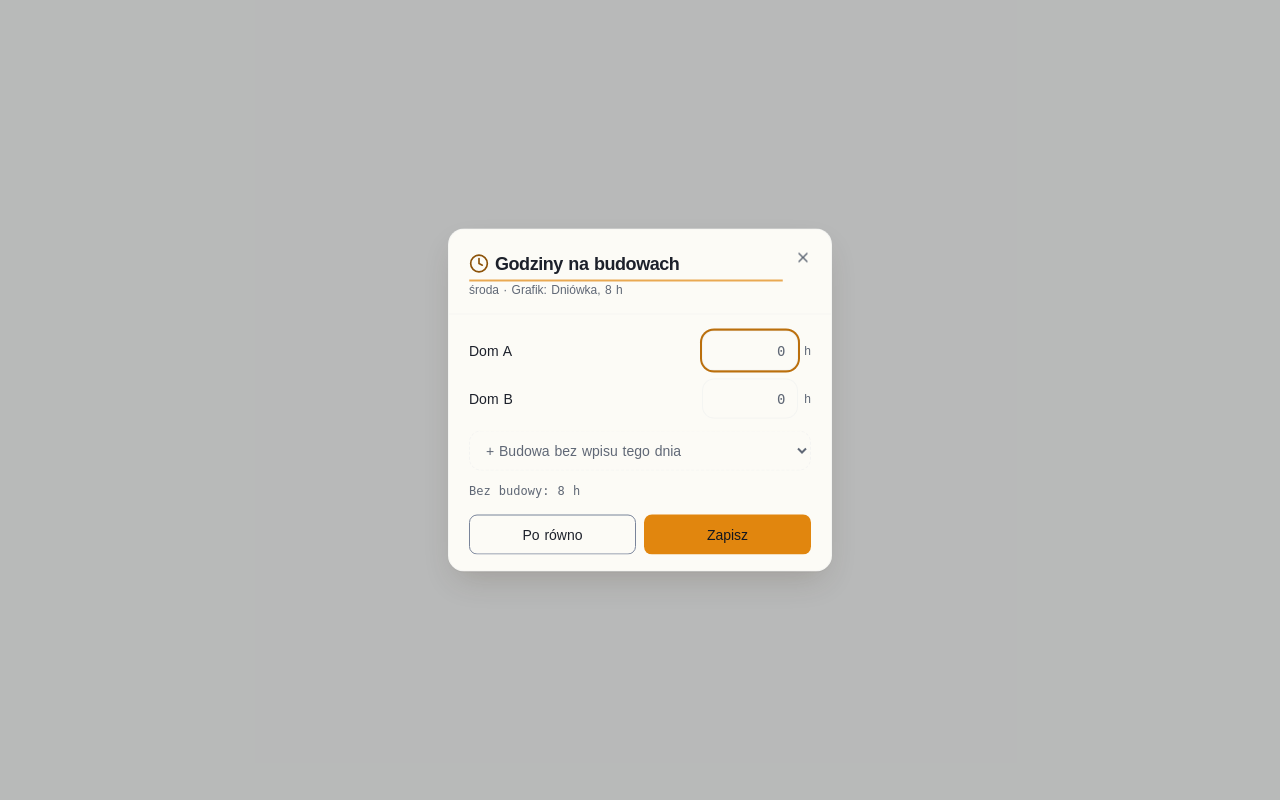
Test: DayHoursDialog — godziny na budowach › błędny format blokuje zapis i pokazuje podpowiedź
The width and height of the screenshot is (1280, 800).
Type "sześć" into the field named "Godziny: Dom A".
click(750, 350); type("sześć")  # box [702, 330, 798, 370]
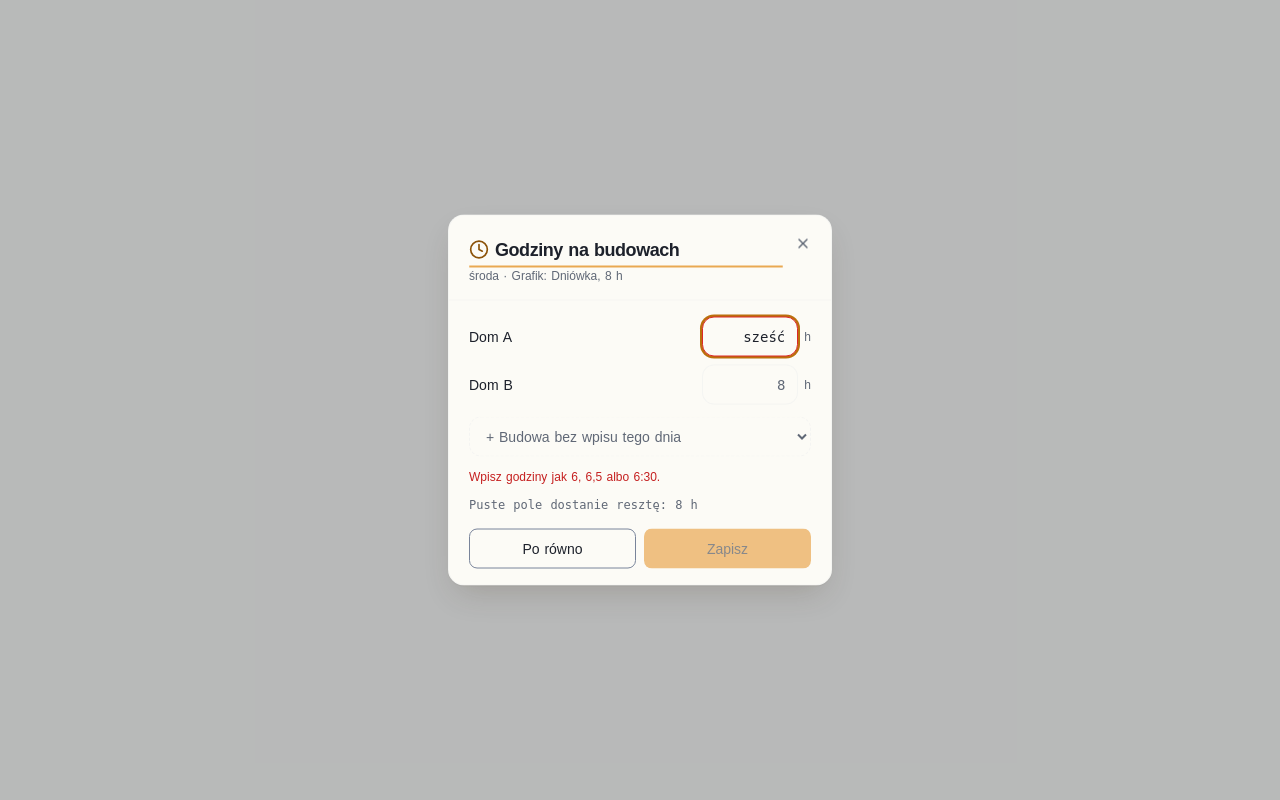
Result: the message "Wpisz godziny jak 6, 6,5 albo 6:30." is shown at [469, 470, 660, 484]
Result: the button "Zapisz" is disabled at [644, 528, 811, 568]
